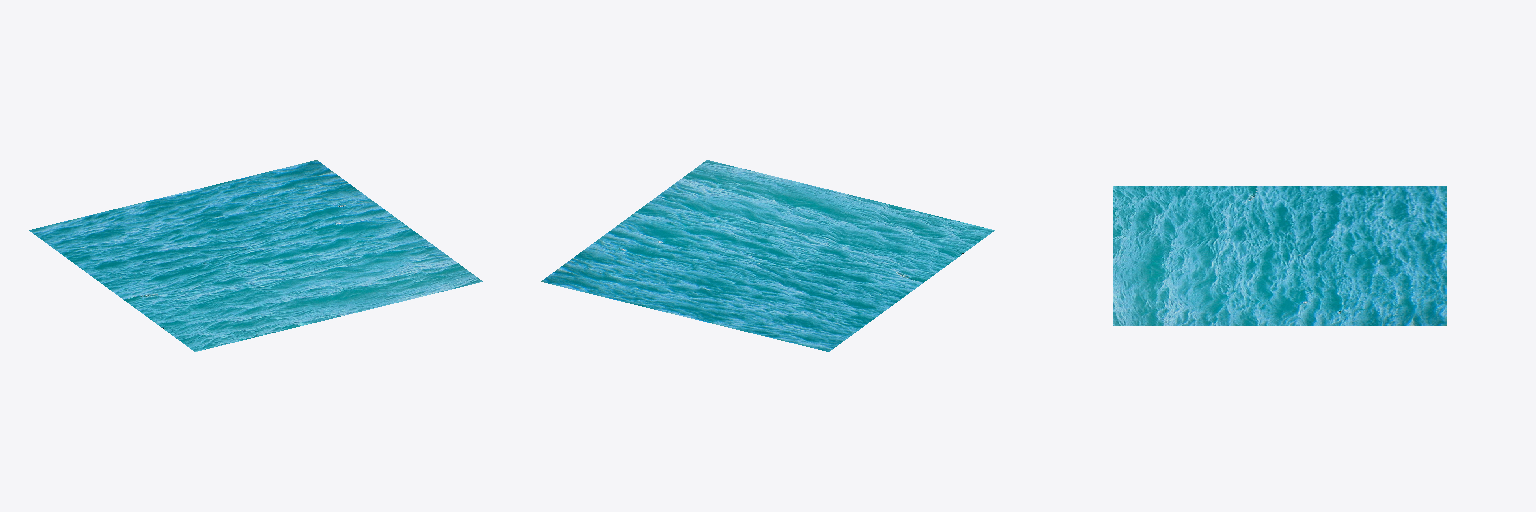
3 renders of one model, left to right at view 1: azimuth 30°, elevation 25°; view 2: azimuth 150°, elevation 25°; view 3: azimuth 270°, elevation 25°, orthographic.
Visible parts, largest first — view 1: Plane; view 2: Plane; view 3: Plane.
Boxes of the visible parts, x1,y1,x2,y2 form: Plane: [29, 160, 482, 351]; Plane: [541, 160, 994, 351]; Plane: [1113, 186, 1446, 325].
Bounding box in the file's own units: 14 × 0 × 14.
Materials: 1 (1 with a texture image).